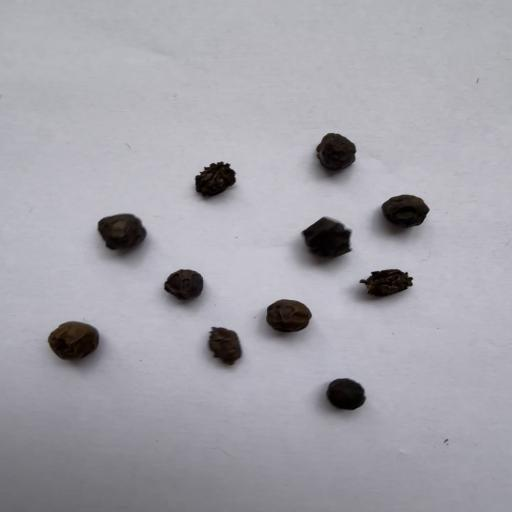Black_pepper: (71, 209, 161, 257), (305, 370, 382, 426), (366, 186, 436, 242), (247, 294, 329, 341), (293, 127, 359, 179), (287, 211, 355, 261), (31, 314, 106, 359), (152, 261, 224, 305)
papaya_seed: (177, 164, 249, 212), (346, 264, 417, 304), (194, 326, 240, 370)
